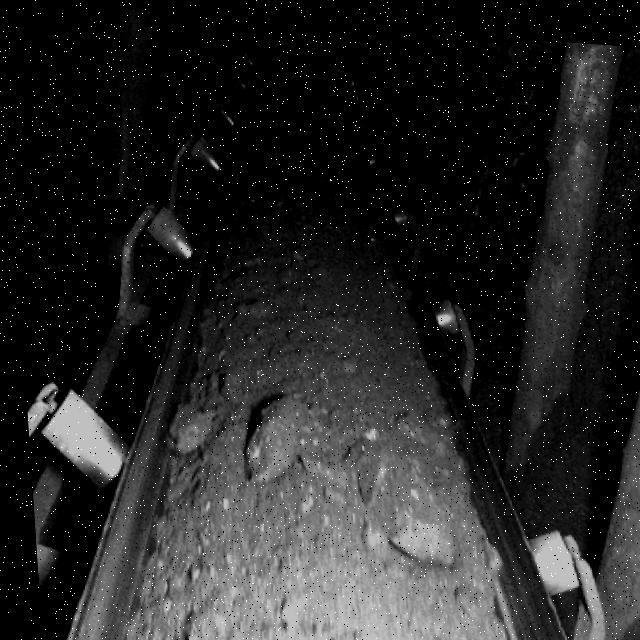large_sized_coal: (348, 445, 449, 559), (236, 393, 307, 478), (161, 404, 213, 455)
